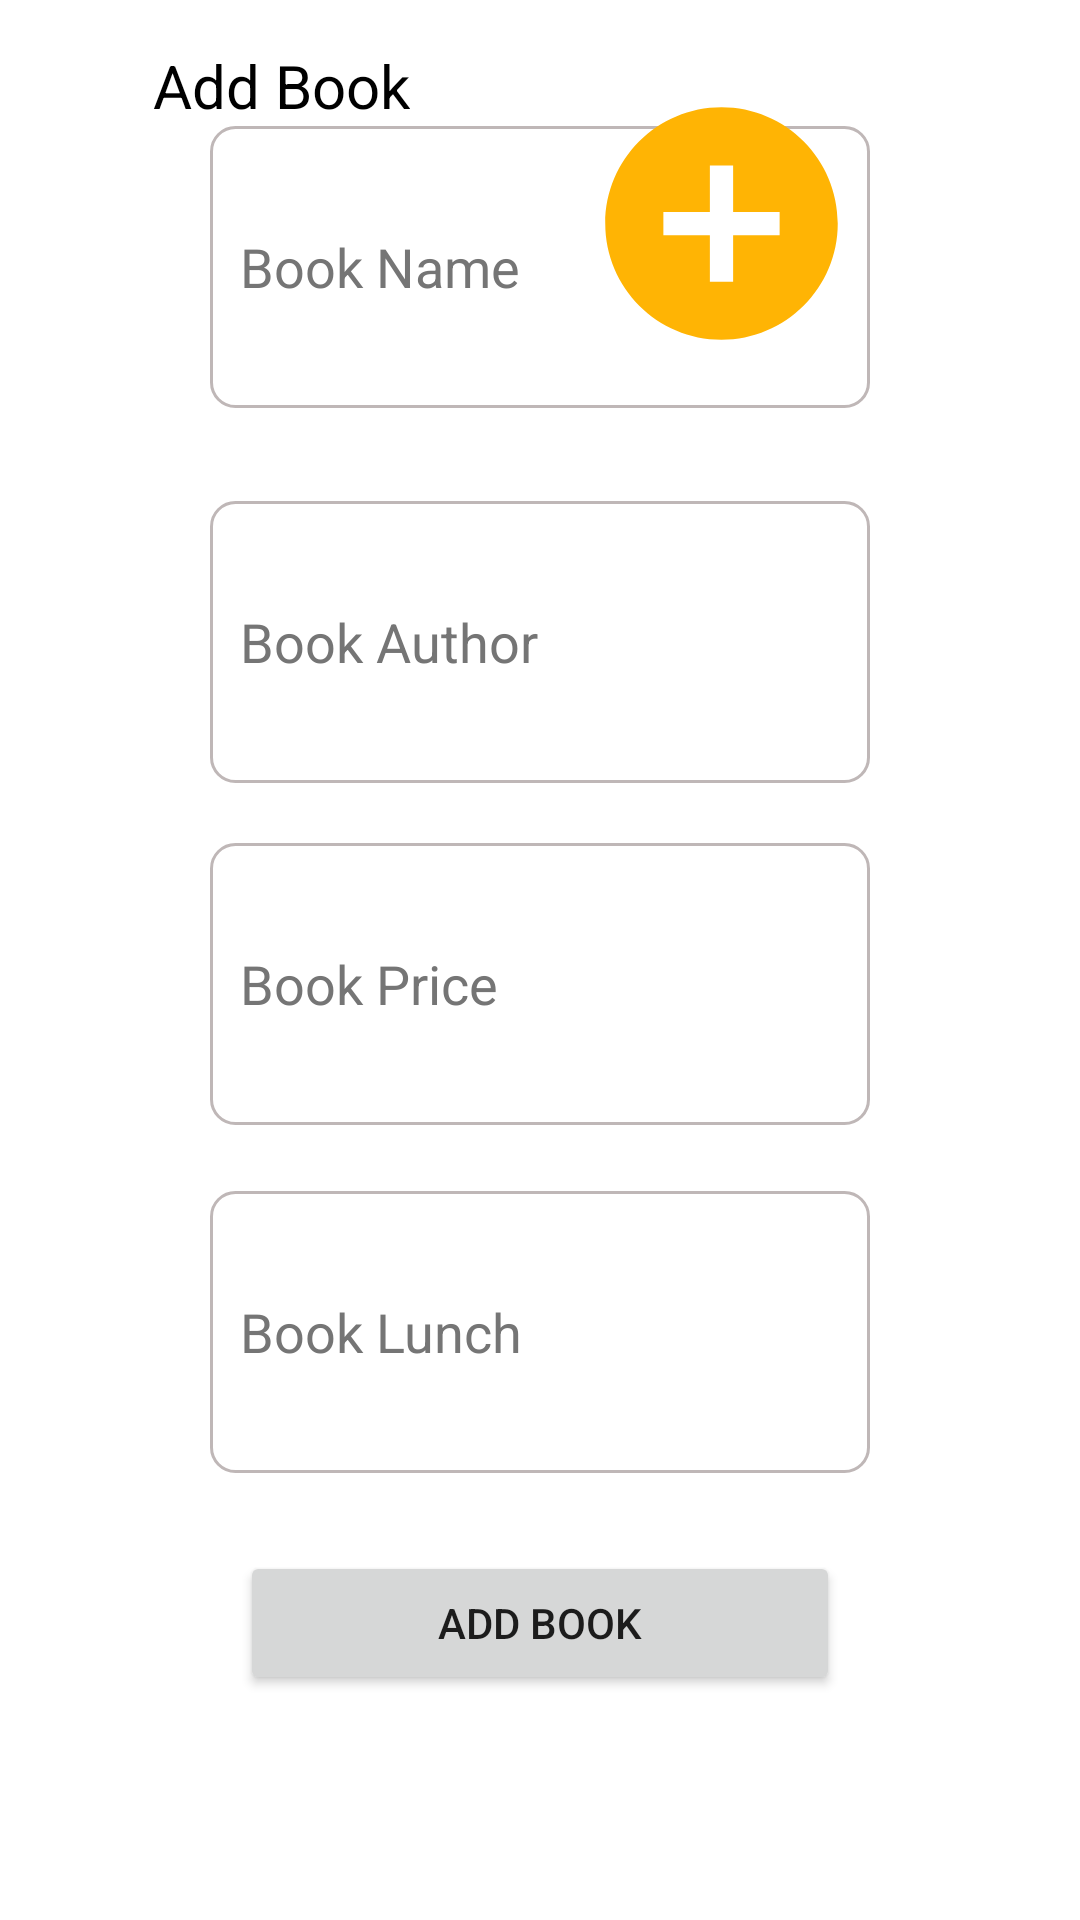

Icons on this 1080×1920 Android screen, each with the point to tap as point (x, y):
add circle: point (702, 235)
